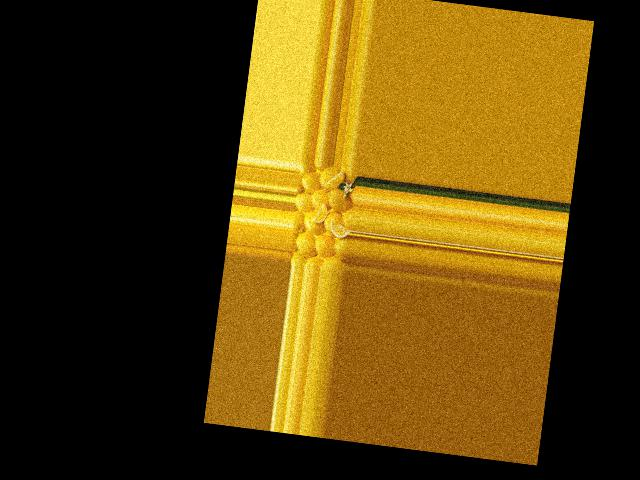lemon: (328, 235, 350, 260)
